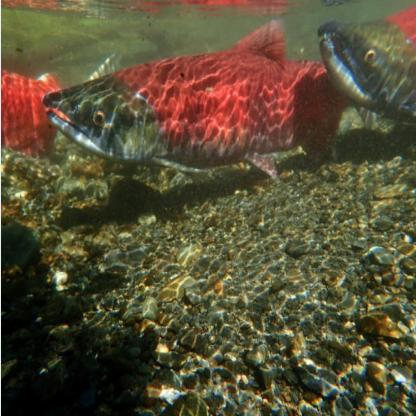sockeye: (48, 39, 317, 167)
